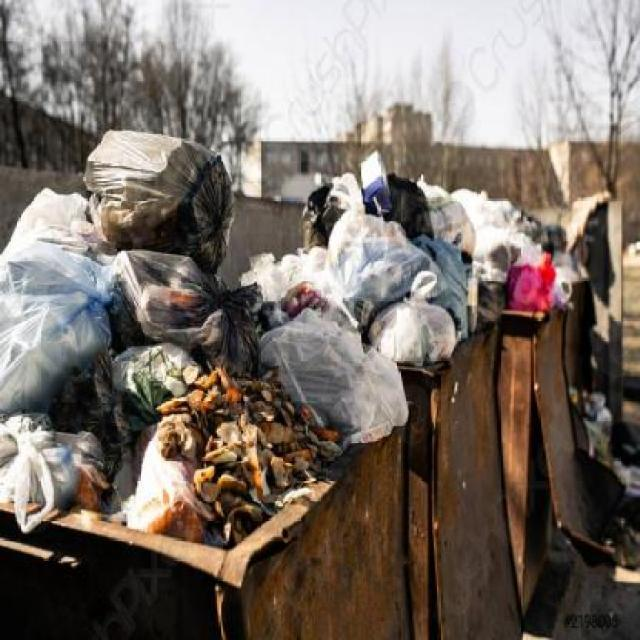garbage: (23, 131, 279, 498), (262, 155, 453, 390), (395, 180, 582, 312)
